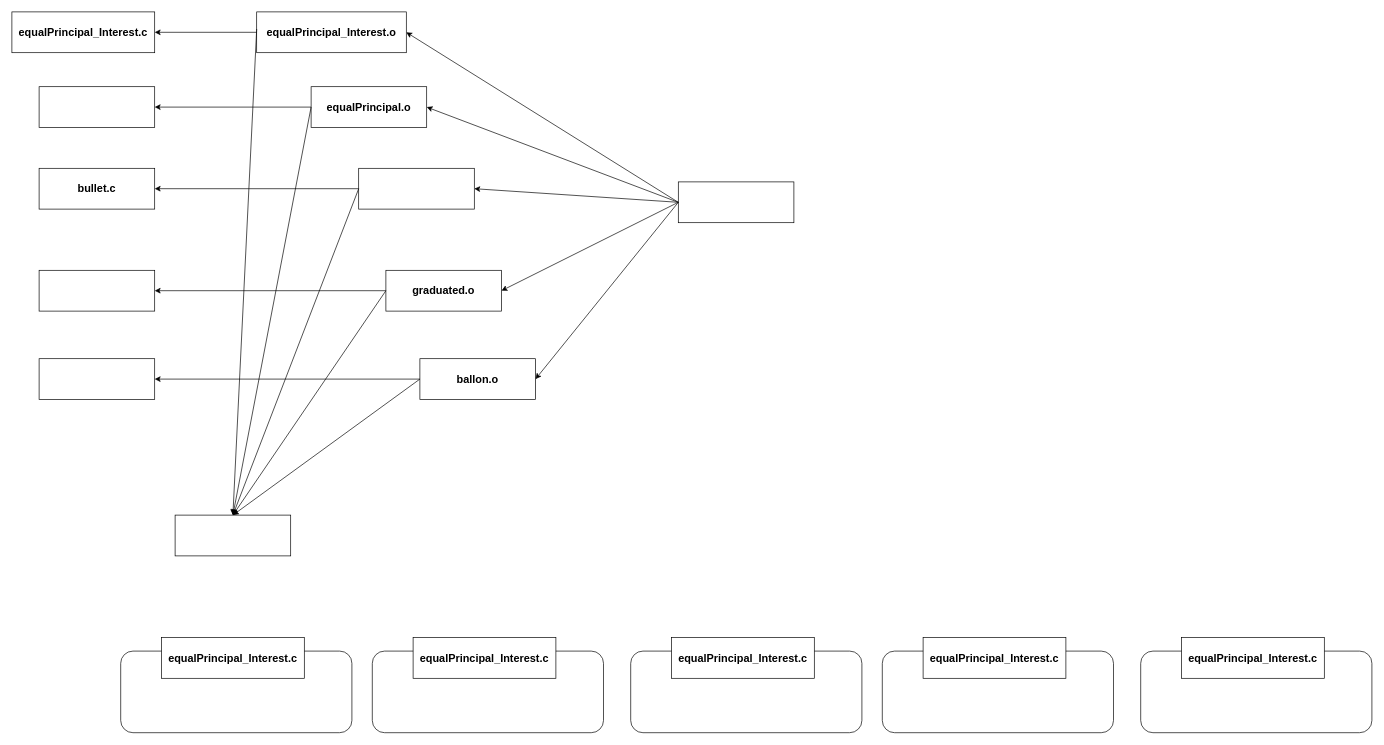
Image size: 1384x745. Some labels were removed from this diagram. Here are the shapes that lost their labels. From the top down, the box of each, then its label:
(38, 86, 155, 128): equalPrincipal.c
(358, 168, 474, 209): bullet .o
(678, 181, 794, 223): loanCalculator
(38, 270, 155, 311): graduated.c
(38, 358, 155, 400): ballon.c
(174, 514, 291, 556): repayment.h
